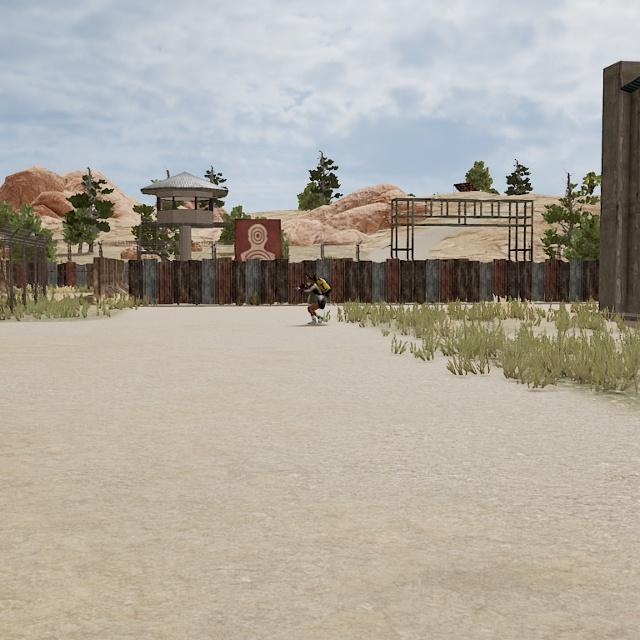head: (305, 273, 316, 287)
people: (300, 273, 329, 326)
